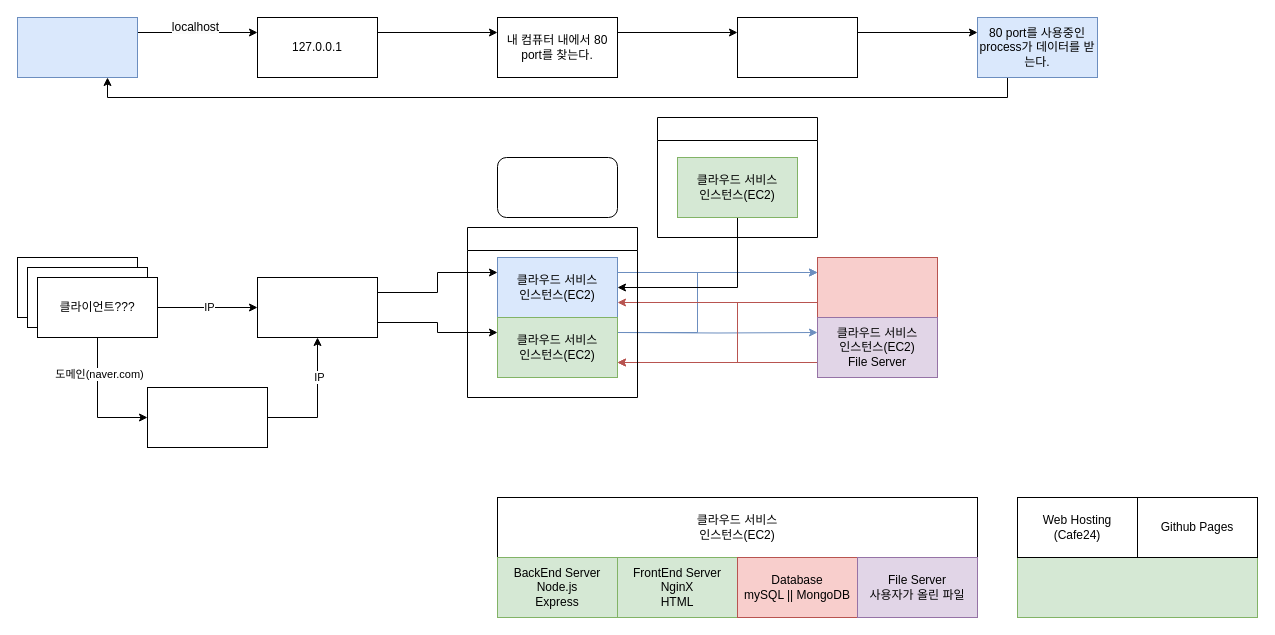
Image size: 1275x635. Some labels were removed from this diagram. Here are the shapes that lost their labels. From the top down, the box of each, then its label:
(16, 16, 138, 78): 클라이언트 브라우저
(736, 16, 858, 78): 요청 데이터를 보낸다.
(496, 156, 618, 218): Auto Scaling 인스턴스의 자동 조절
(656, 116, 818, 238): AMI
(256, 276, 378, 338): Load Banlancer
(816, 256, 938, 318): 클라우드 서비스 인스턴스(EC2) mySQL
(466, 226, 638, 398): Auto Scaling
(146, 386, 268, 448): Domain Name Server
(1016, 556, 1258, 618): FrontEnd Server HTML, CSS, JS
